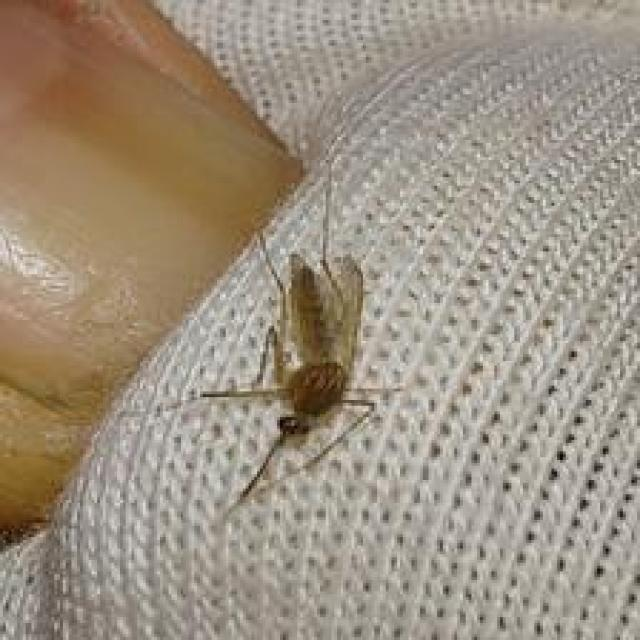Culex: (183, 235, 391, 514)
